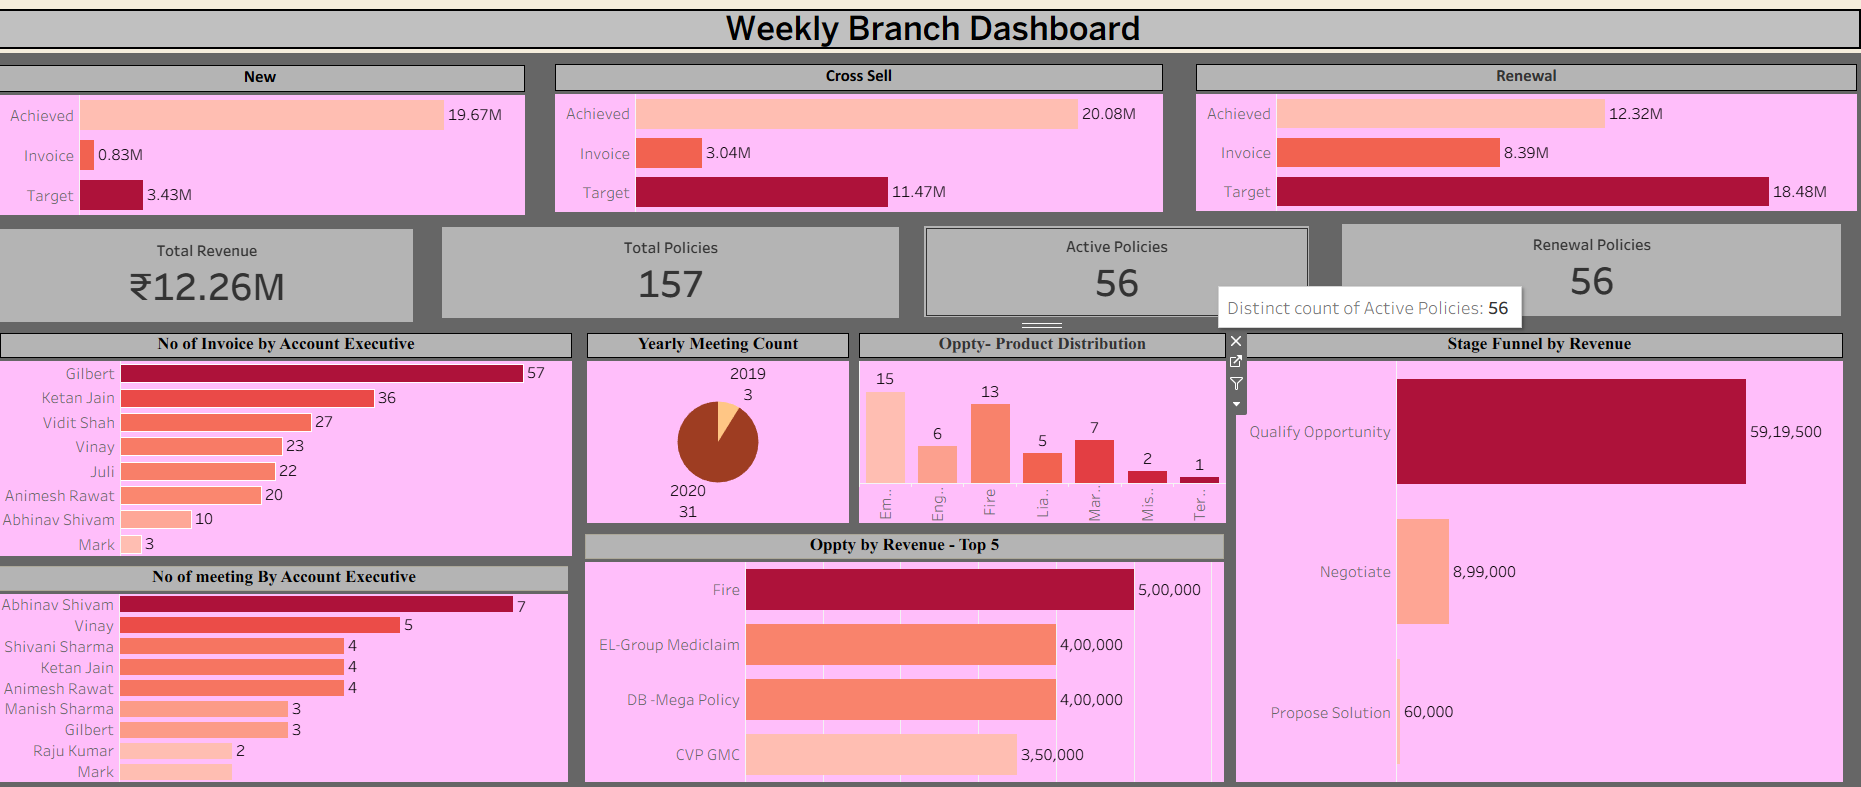

Layout of this report page (visuals, bound fields, positions):
{"tool":"tableau","page":{"name":"Dashboard (2)","canvas":[1000,1000],"units":"permille","ordinal":0},"visuals":[{"type":"title","box":[4.8,10,990.3,59.9]},{"type":"worksheet","title":"KPI3.2","mark":"Automatic","rows":["Column1"],"cols":["Cross Sell"],"box":[301.8,83.7,322.3,184.8]},{"type":"worksheet","title":"KPI3.3","mark":"Automatic","rows":["Column1"],"cols":["Renewal"],"box":[641.5,83.7,350,183.5]},{"type":"worksheet","title":"KPI3.1","mark":"Automatic","rows":["Column1"],"cols":["New"],"box":[7.2,84.9,278.8,187.3]},{"type":"worksheet","title":"Renewal Policies ","mark":"Automatic","box":[718.8,283.4,264.3,114.9]},{"type":"worksheet","title":"Active Policies ","mark":"Automatic","box":[497.3,285.9,204,113.6]},{"type":"worksheet","title":"Total Policies","mark":"Automatic","box":[242,287.1,242,113.6]},{"type":"worksheet","title":"Total Revenue ","mark":"Automatic","box":[7.9,289.6,219.1,116.1]},{"type":"worksheet","title":"KPI1","mark":"Automatic","rows":["Account_Executive"],"cols":["invoice_number"],"box":[7.9,419.5,303,278.4]},{"type":"worksheet","title":"KPI2","mark":"Pie","box":[318.7,419.5,138.8,237.2]},{"type":"worksheet","title":"KPI3.4","mark":"Bar","rows":["opportunity_id"],"cols":["product_group"],"box":[462.9,419.5,194.3,238.5]},{"type":"worksheet","title":"KPI4","mark":"Automatic","rows":["stage"],"cols":["revenue_amount"],"box":[662.6,419.5,321.7,560.6]},{"type":"worksheet","title":"KPI6","mark":"Automatic","rows":["opportunity_name"],"cols":["revenue_amount"],"box":[318,670.4,338.6,309.6]},{"type":"worksheet","title":"KPI5","mark":"Bar","rows":["Account_Executive (Meeting)"],"cols":["Meeting_1FE8424DD9494AA69B4FDBB994213184"],"box":[7.2,710.4,301.8,269.7]}]}

Visuals, with their boxes on the dashboard's canvas, which has no fixed pixel size, in thousandths of its width and height (x1, y1, x2, y2). These are canvas units, not pixel positions in the 1861x787 screenshot, which may show the page scaled, cropped or inside an application window:
title: 5,10,995,70
"KPI3.2" worksheet: 302,84,624,268
"KPI3.3" worksheet: 642,84,992,267
"KPI3.1" worksheet: 7,85,286,272
"Renewal Policies " worksheet: 719,283,983,398
"Active Policies " worksheet: 497,286,701,400
"Total Policies" worksheet: 242,287,484,401
"Total Revenue " worksheet: 8,290,227,406
"KPI1" worksheet: 8,420,311,698
"KPI2" worksheet (Pie marks): 319,420,458,657
"KPI3.4" worksheet (Bar marks): 463,420,657,658
"KPI4" worksheet: 663,420,984,980
"KPI6" worksheet: 318,670,657,980
"KPI5" worksheet (Bar marks): 7,710,309,980
